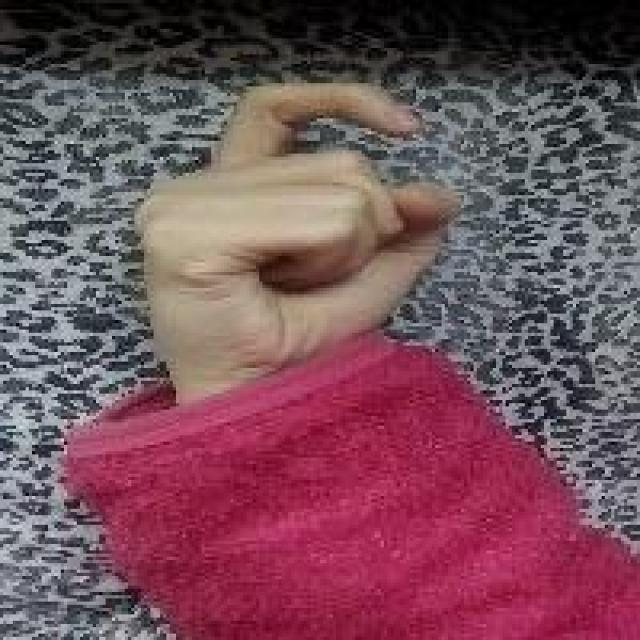X: (134, 75, 464, 370)
